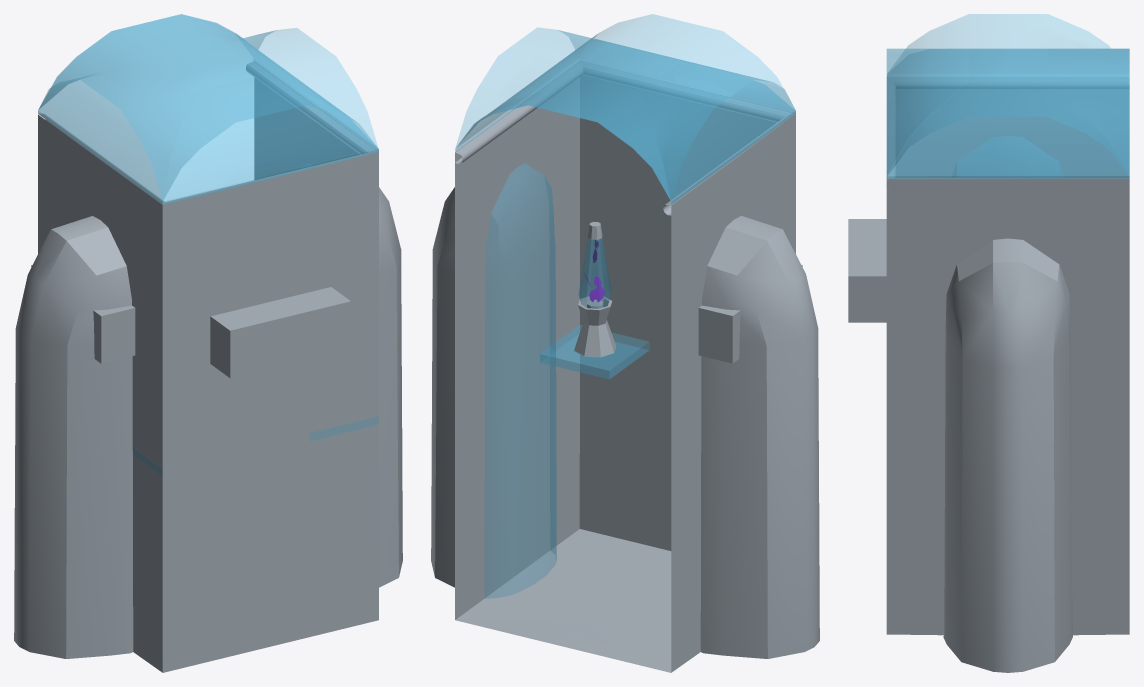
File: StraightLeftRightBlocksReagan.fbx
The picture shows the model from 3 angles, left to right: view 1: azimuth 30°, elevation 25°; view 2: azimuth 150°, elevation 25°; view 3: azimuth 270°, elevation 25°; orthographic projection. The views are drawn at different scales.
Visible parts, largest first — view 1: LeftTurn1, Straight1, RightTurn1; view 2: Straight1, RightTurn1, LeftTurn1; view 3: Straight1, RightTurn1, LeftTurn1.
Part boxes in pixels (x1,y1,x2,y2): LeftTurn1: (31,14,378,672); Straight1: (14,14,402,672); RightTurn1: (38,14,378,646); Straight1: (431,14,819,672); RightTurn1: (455,39,795,664); LeftTurn1: (455,27,802,672); Straight1: (886,48,1129,672); RightTurn1: (848,14,1129,634); LeftTurn1: (886,48,1129,179).
Size of the model in its own units: 2.1 by 1.39 by 2.83.
